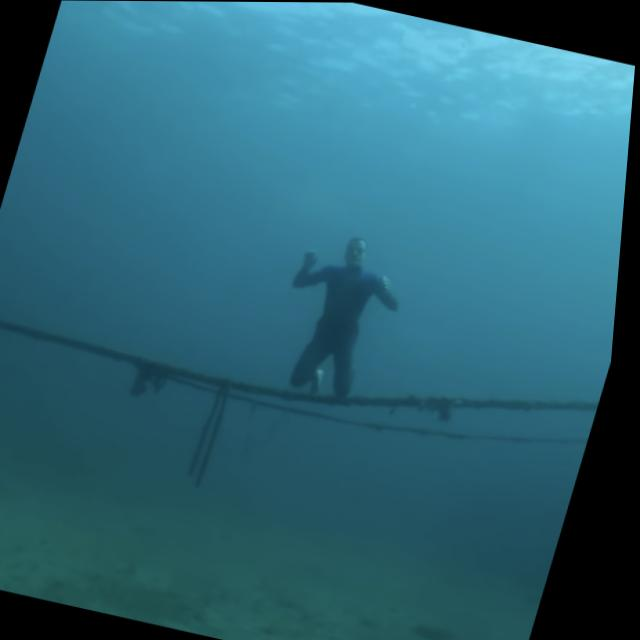human: (259, 215, 433, 412)
